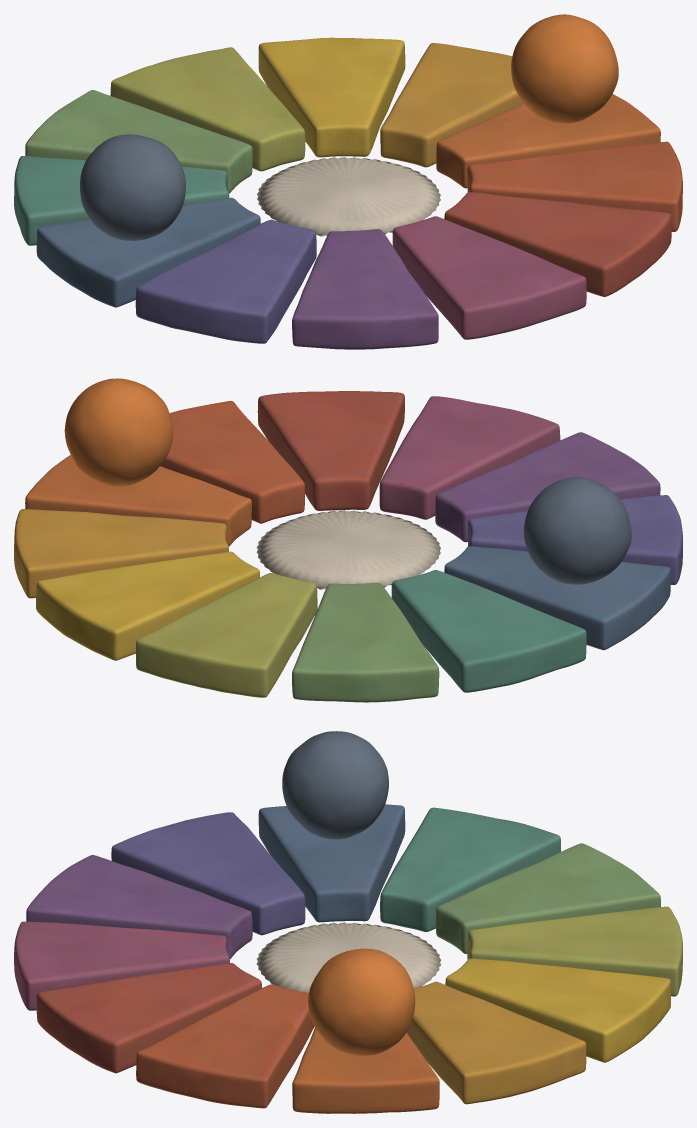
Rendered from neutralizacion-del-color.glb.
3 views of the same model, one above another, from view 1: azimuth 30°, elevation 25°; view 2: azimuth 150°, elevation 25°; view 3: azimuth 270°, elevation 25° (orthographic).
Visible parts, largest first — view 1: Cuña_09.001, Cuña_07.001, Cuña_08.001, Cuña_02.001, Cuña_10.001, Cuña_03.001, Cuña_06.001, Cuña_11.001, Peana.001, Cuña_01.001, Cuña_04.001, Gota_naranja.001 (+3 smaller); view 2: Cuña_05.001, Cuña_03.001, Cuña_02.001, Cuña_04.001, Cuña_10.001, Cuña_09.001, Cuña_01.001, Cuña_06.001, Peana.001, Cuña_11.001, Cuña_08.001, Gota_naranja.001 (+3 smaller); view 3: Cuña_11.001, Cuña_01.001, Cuña_10.001, Cuña_02.001, Cuña_07.001, Cuña_05.001, Cuña_04.001, Cuña_08.001, Cuña_09.001, Cuña_03.001, Cuña_06.001, Cuña_00.001 (+3 smaller).
Part boxes in pixels (x1,y1,x2,y2): Cuña_09.001: (392, 216, 586, 339); Cuña_07.001: (135, 219, 316, 343); Cuña_08.001: (292, 229, 438, 349); Cuña_02.001: (258, 37, 405, 157); Cuña_10.001: (444, 192, 671, 296); Cuña_03.001: (110, 47, 305, 171); Cuña_06.001: (36, 197, 260, 307); Cuña_11.001: (467, 141, 682, 231); Peana.001: (257, 157, 440, 236); Cuña_01.001: (380, 43, 523, 167); Cuña_04.001: (25, 90, 252, 193); Gota_naranja.001: (511, 14, 618, 123); Cuña_05.001: (391, 570, 586, 692); Cuña_03.001: (136, 573, 317, 697); Cuña_02.001: (36, 551, 259, 660); Cuña_04.001: (292, 582, 439, 702); Cuña_10.001: (257, 391, 404, 510); Cuña_09.001: (379, 396, 560, 519); Cuña_01.001: (14, 509, 228, 598); Cuña_06.001: (444, 546, 670, 650); Peana.001: (256, 510, 440, 589); Cuña_11.001: (160, 401, 304, 523); Cuña_08.001: (435, 432, 660, 542); Gota_naranja.001: (64, 378, 173, 486); Cuña_11.001: (136, 984, 314, 1108); Cuña_01.001: (406, 981, 586, 1104); Cuña_10.001: (36, 963, 261, 1073); Cuña_02.001: (445, 958, 670, 1062); Cuña_07.001: (111, 812, 305, 935); Cuña_05.001: (380, 807, 560, 931); Cuña_04.001: (436, 843, 660, 953); Cuña_08.001: (26, 855, 252, 958); Cuña_09.001: (14, 921, 229, 1010); Cuña_03.001: (467, 906, 682, 996); Cuña_06.001: (258, 804, 405, 922); Cuña_00.001: (292, 1027, 439, 1113).
Bounding box in the file's own units: 5.2 × 1.13 × 5.2.
17 materials, 16 textured.
